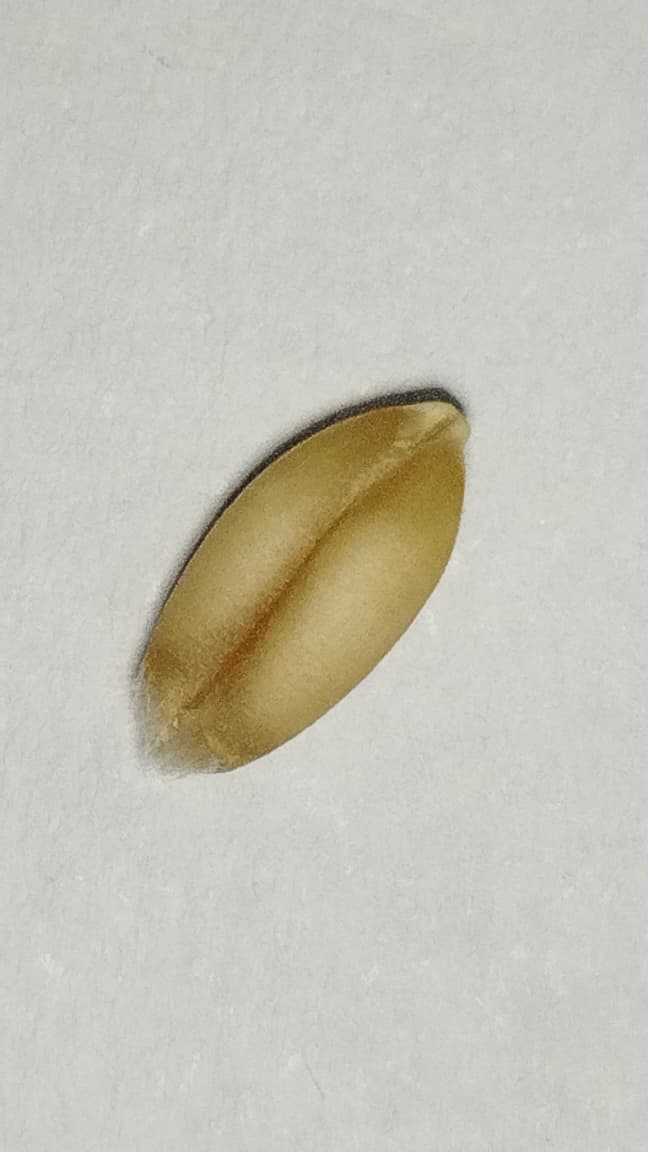healthy: (144, 400, 465, 764)
